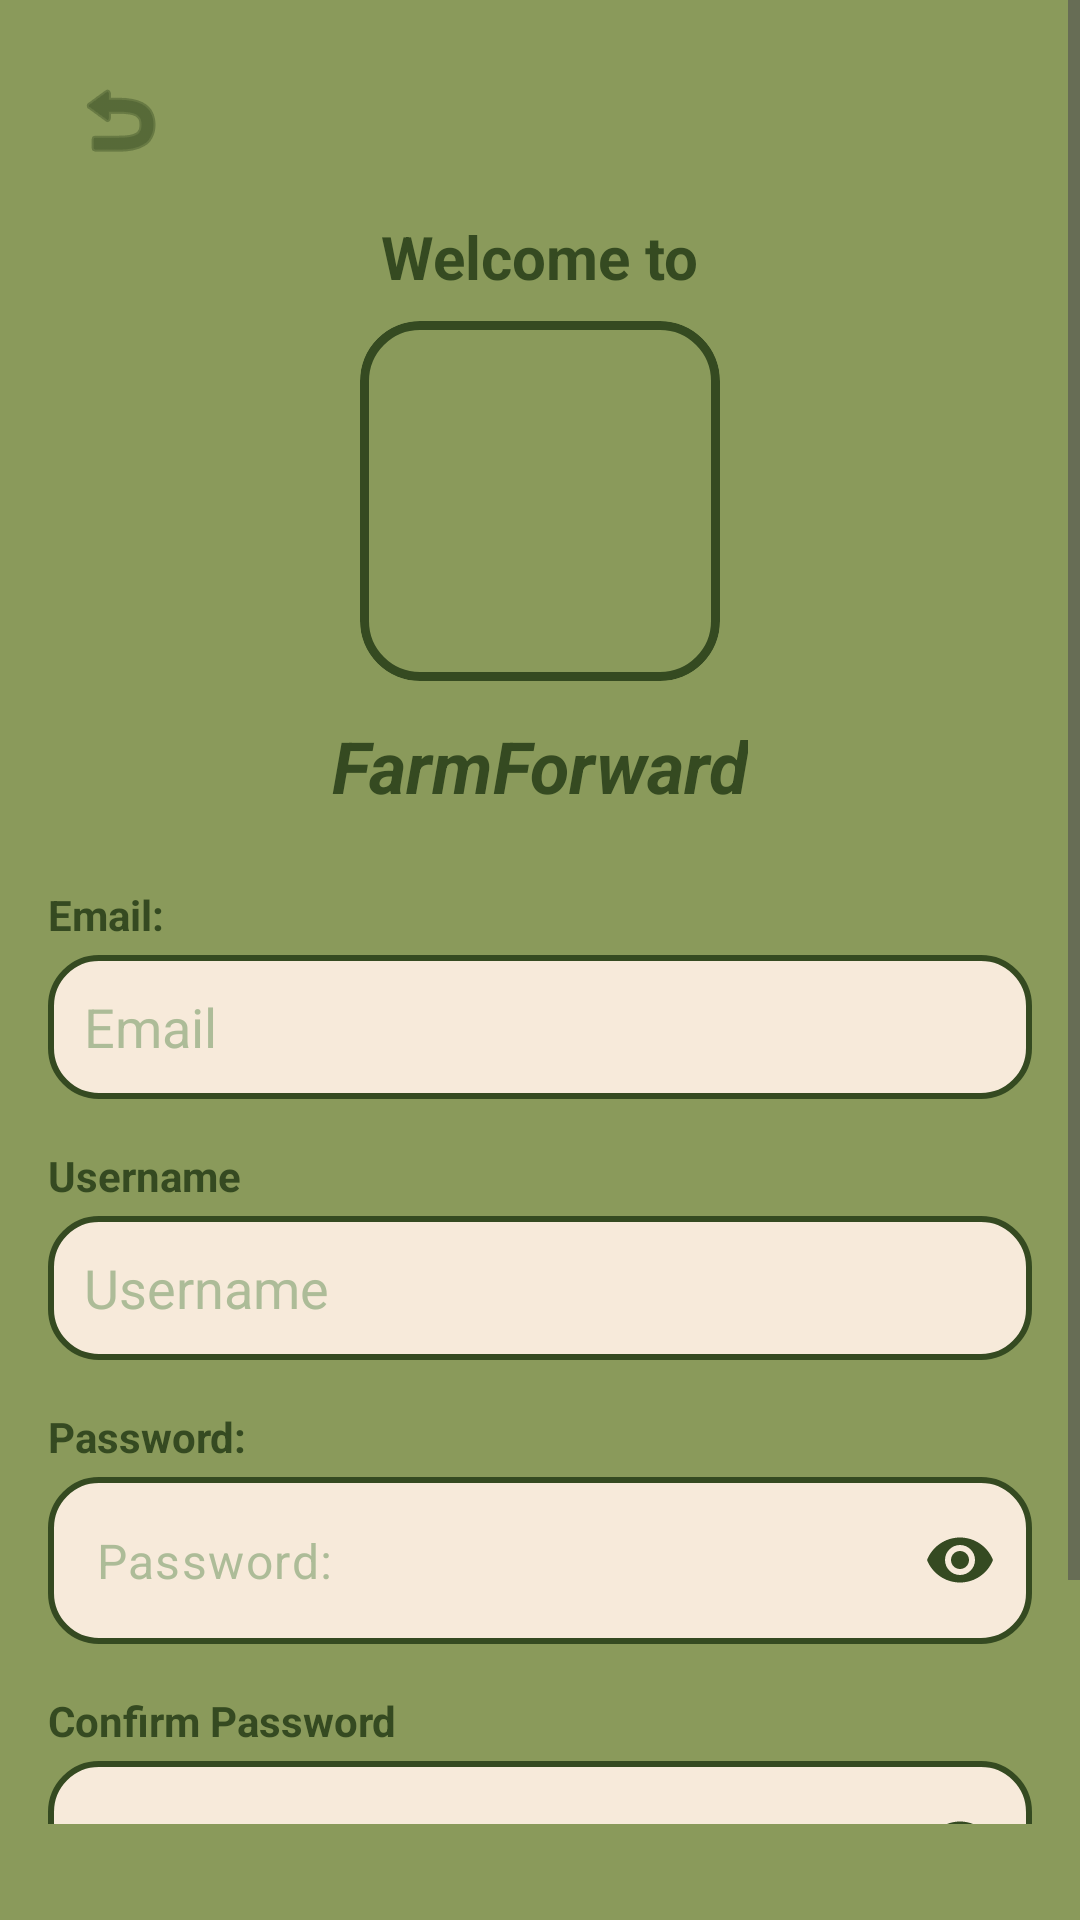

Icon bounding boxes for this 1080px×1920px phone screenshot, format box(x1, y1, x2, y2):
back to log in: box(87, 90, 155, 151)
